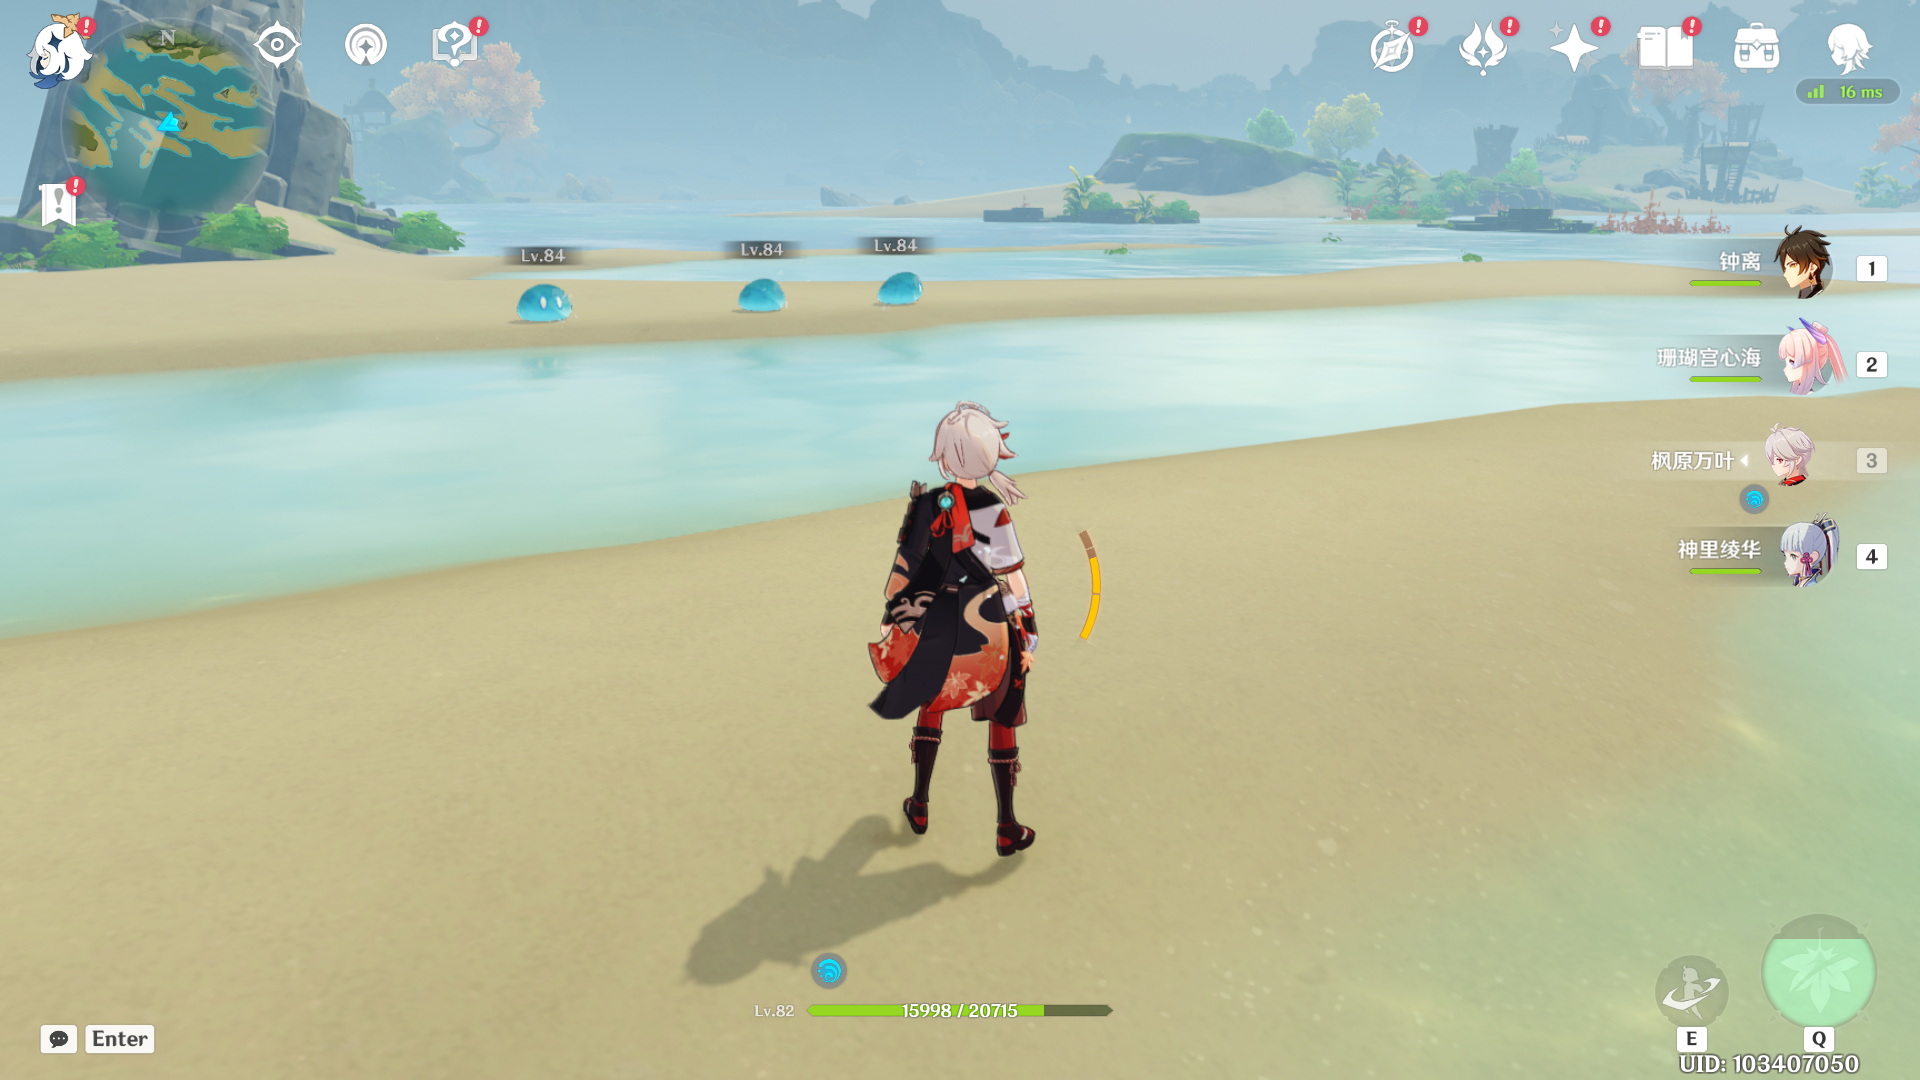slime: (509, 281, 579, 330), (873, 269, 928, 309), (738, 276, 787, 316)
